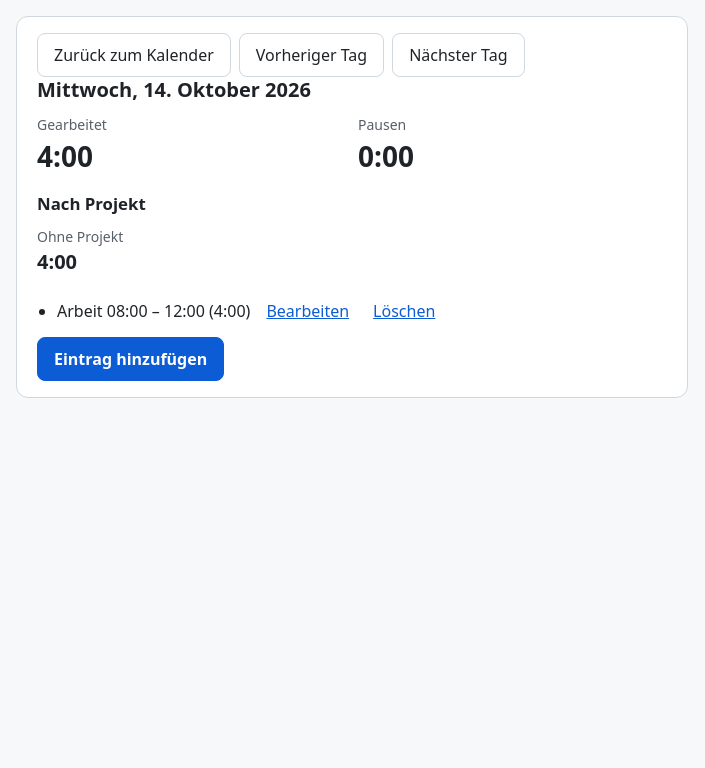
Test case: DayDetailView › shows a toast and restores the entry when the delete is rejected
Click the button "Löschen".
click(404, 311)  # box x1=365 y1=293 x2=443 y2=329
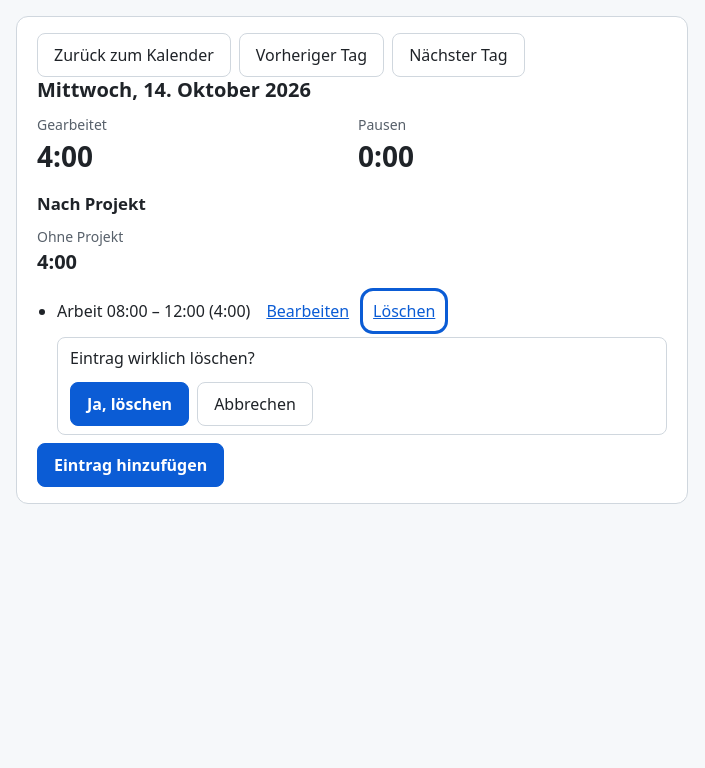
Click the button "Ja, löschen".
click(130, 404)  # box x1=70 y1=382 x2=189 y2=426
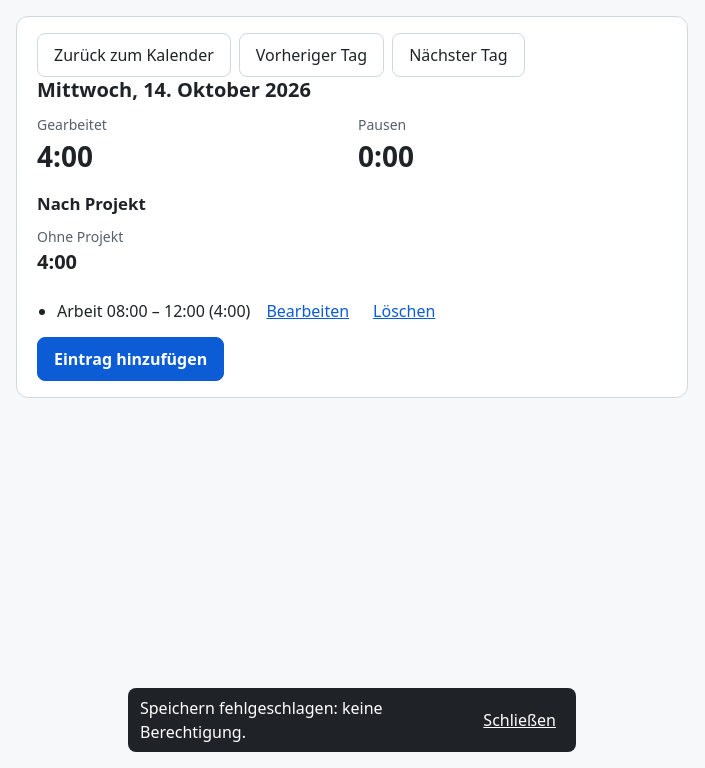
Expected: the text "Arbeit 08:00 – 12:00 (4:00)" is shown, x1=57 y1=300 x2=250 y2=322
Result: the message "Speichern fehlgeschlagen: keine Berechtigung. Schließen" is not empty at x1=128 y1=688 x2=576 y2=752
